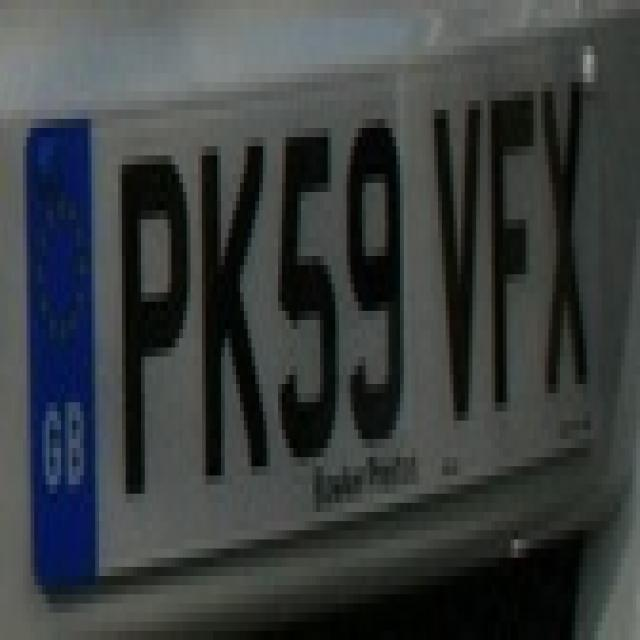licenseplate: (11, 4, 630, 620)
